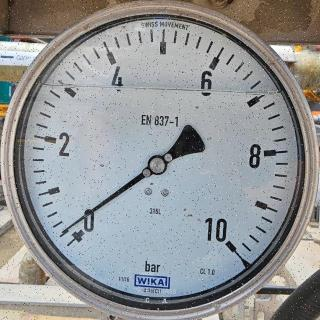gauge: (0, 0, 320, 320), (60, 212, 96, 250), (212, 228, 242, 258), (148, 153, 168, 175), (58, 223, 72, 237)
